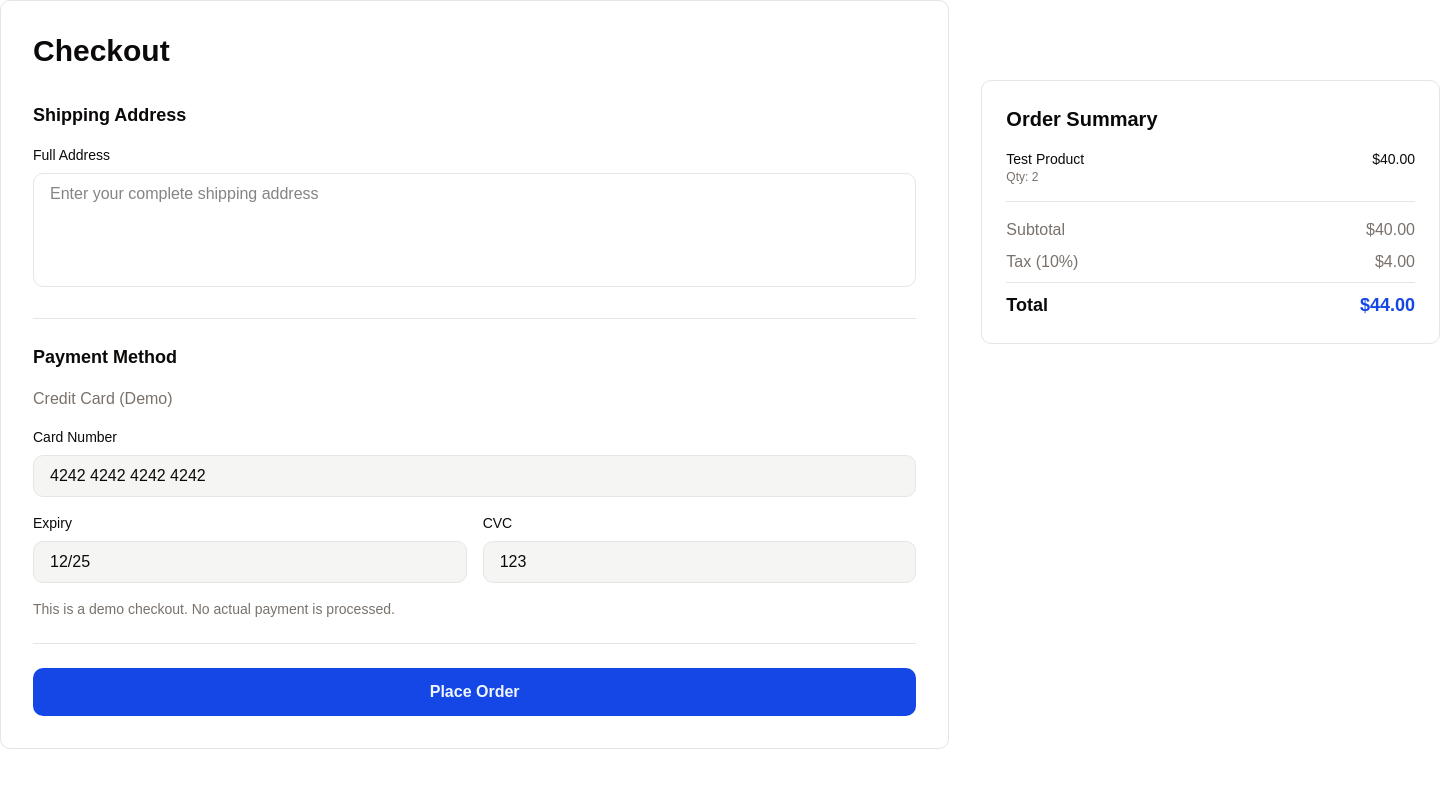
Scenario: CheckoutPage › displays out of stock error from backend
Type "123 Test Street Ave" into the text box with placeholder "Enter your complete shipping address" at (475, 230), box [33, 173, 916, 287]
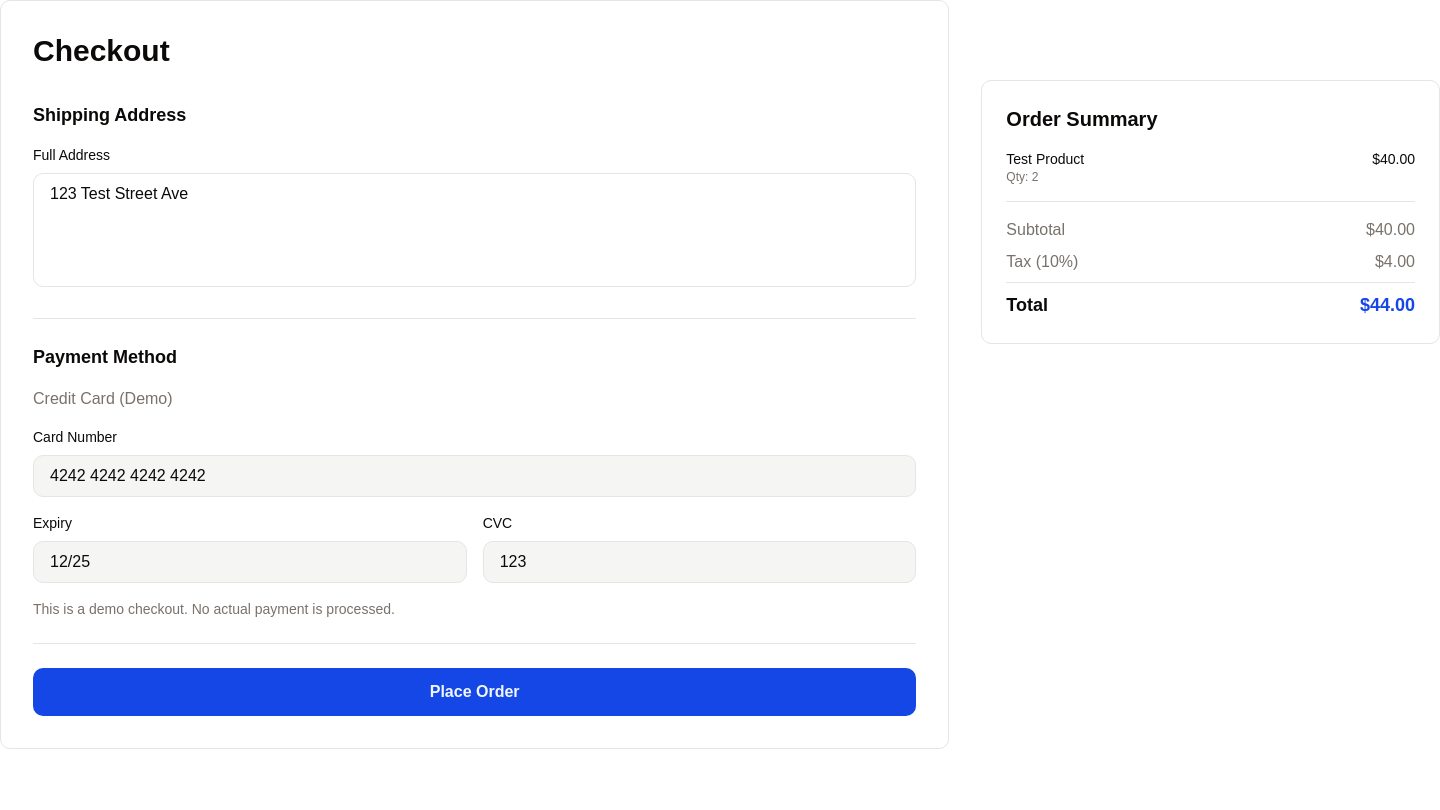
Click the button "Place Order" at (475, 692), box [33, 668, 916, 716]
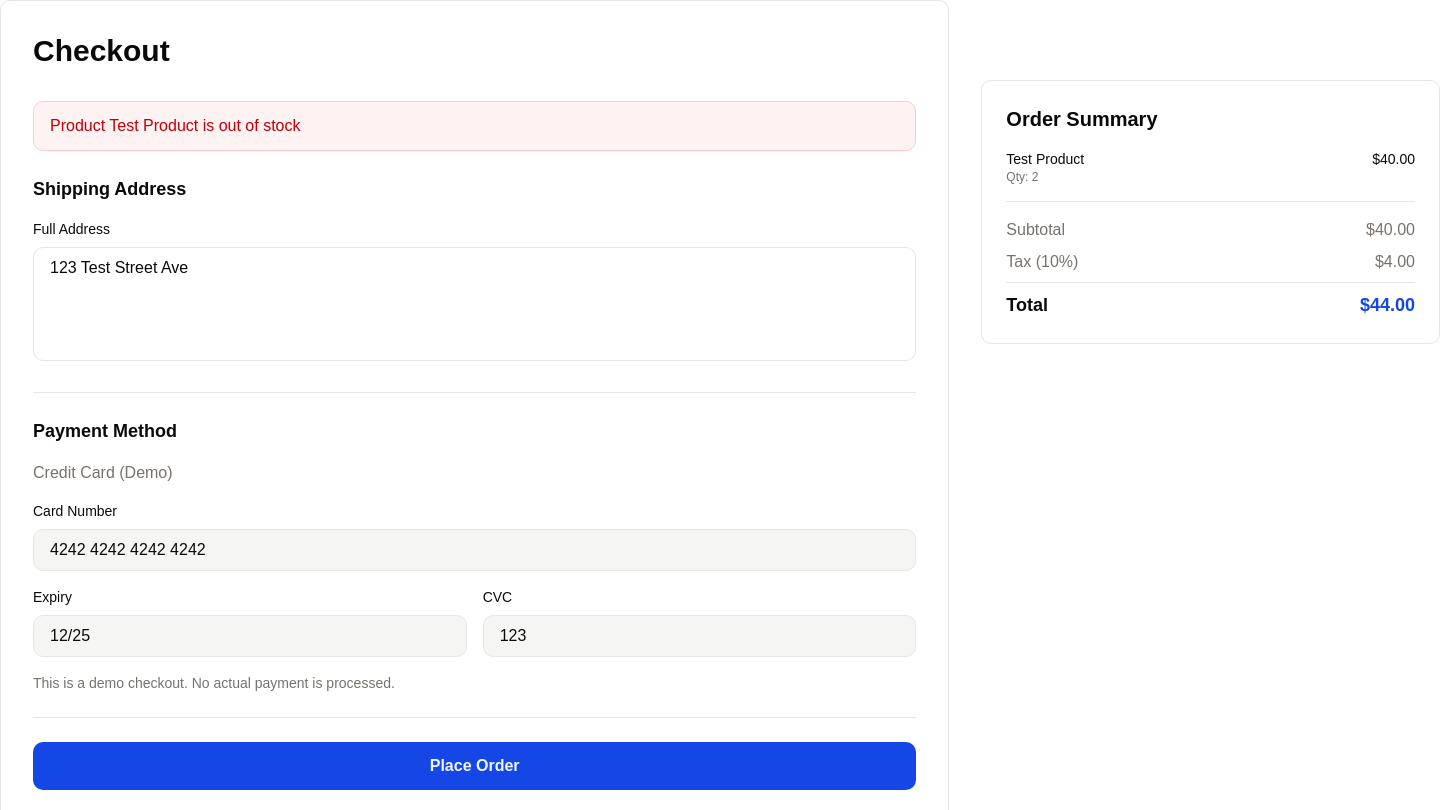
expect the text "Product Test Product is out of stock" is shown: met, box [33, 101, 916, 151]
